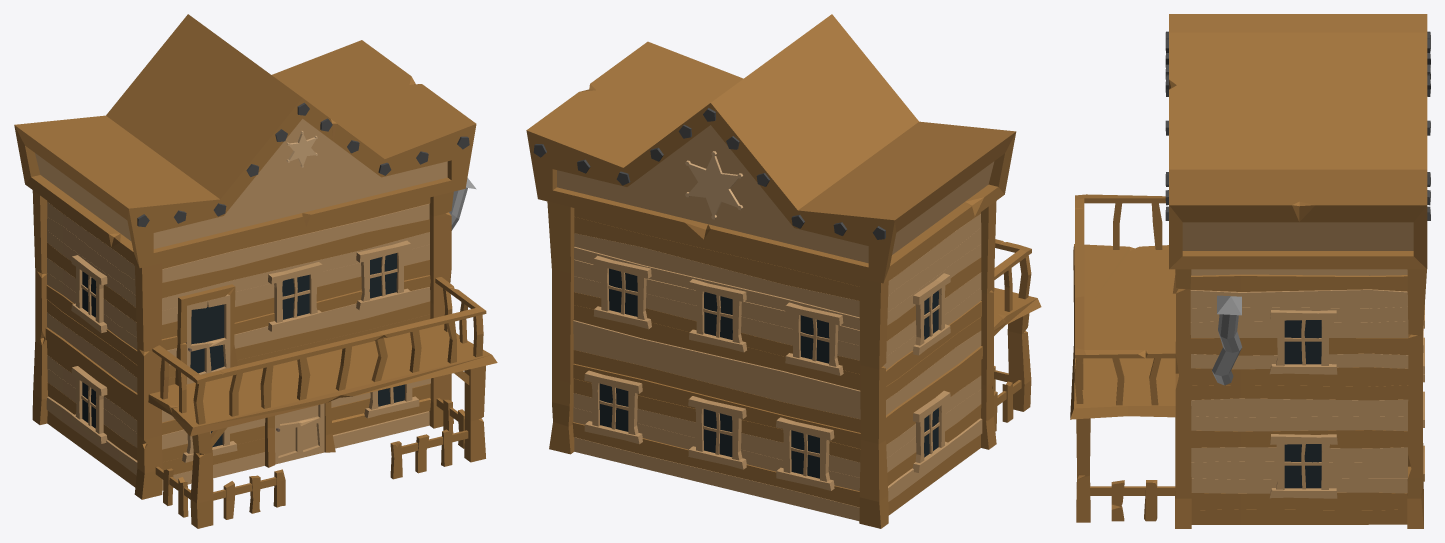
Rendered from Building_Sheriff.fbx.
3 renders of one model, left to right at view 1: azimuth 30°, elevation 25°; view 2: azimuth 150°, elevation 25°; view 3: azimuth 270°, elevation 25°, orthographic. The views are drawn at different scales.
Visible parts, largest first — view 1: Building_Sheriff; view 2: Building_Sheriff; view 3: Building_Sheriff.
Part boxes in pixels (x1,y1,x2,y2): Building_Sheriff: (14, 14, 497, 528); Building_Sheriff: (526, 14, 1041, 528); Building_Sheriff: (1070, 14, 1430, 528).
Size of the model in its own units: 993 by 746 by 939.
